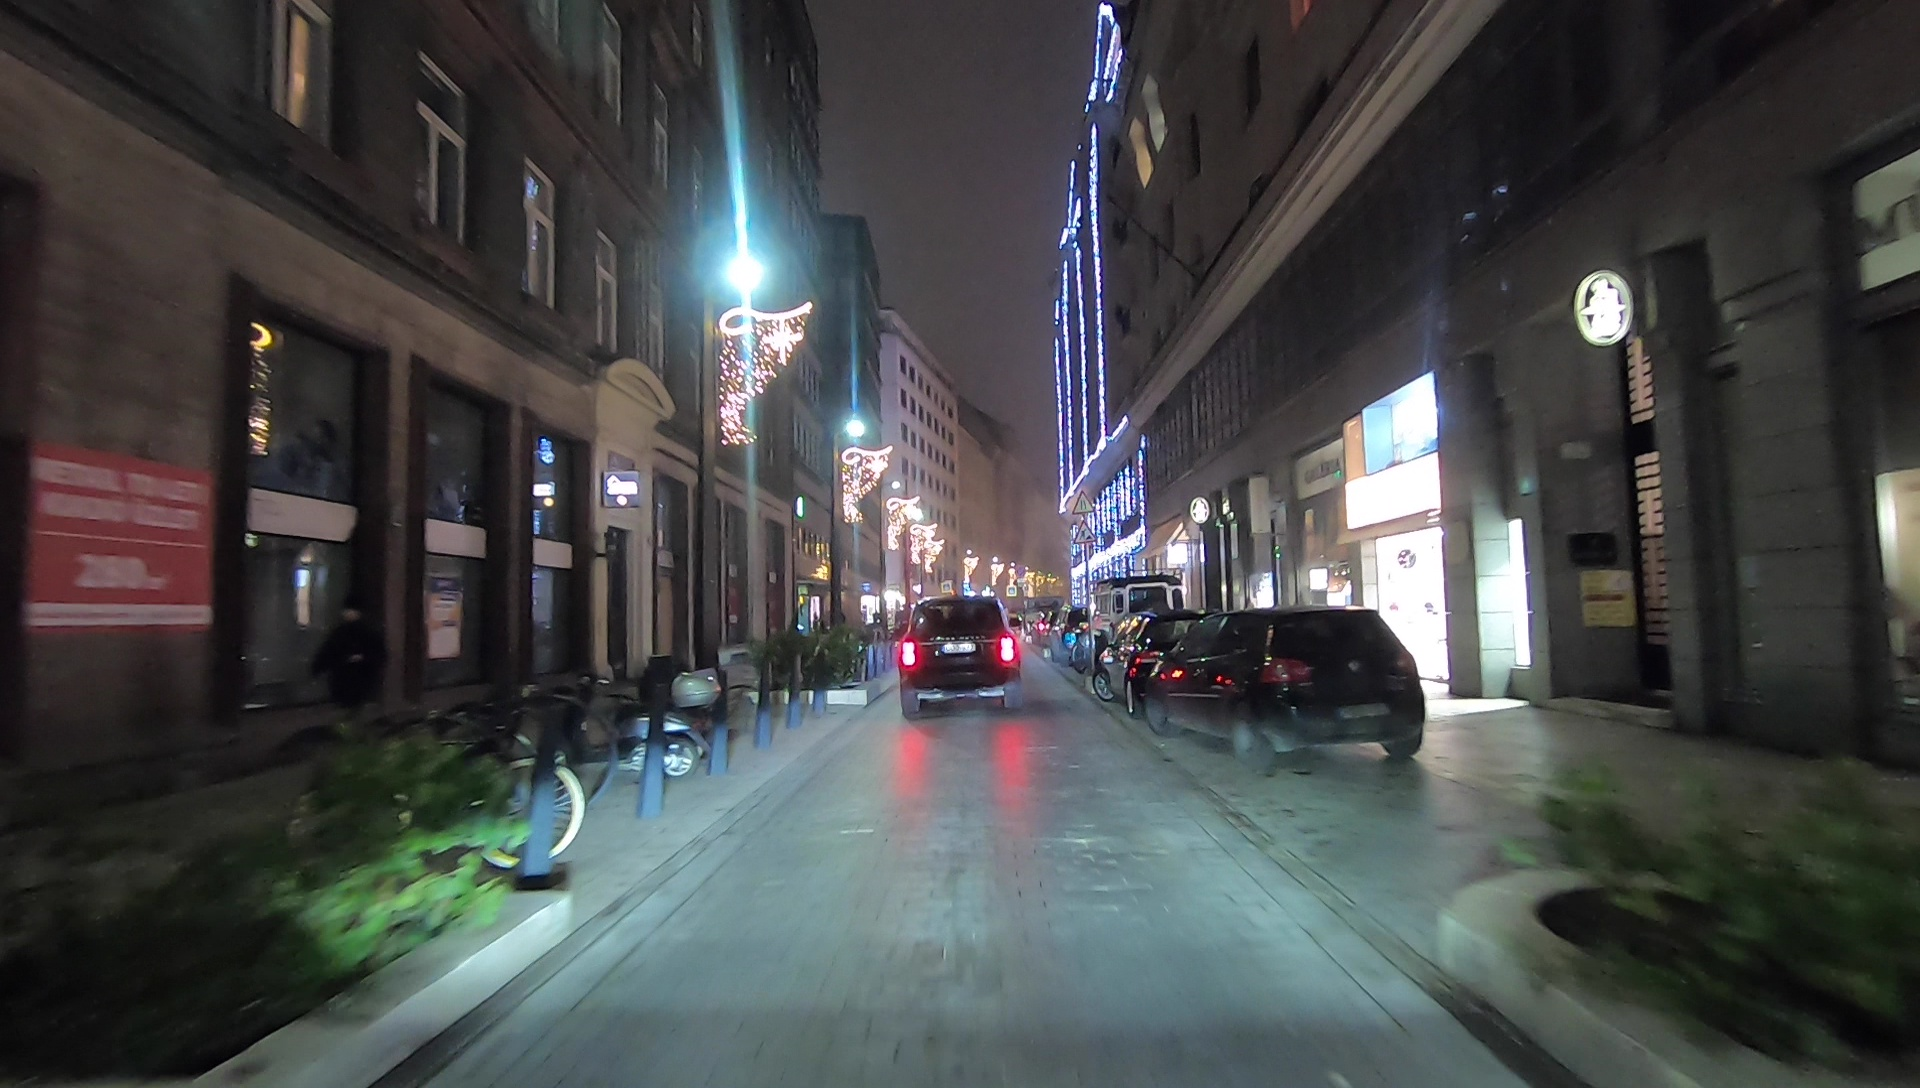person: (317, 606, 376, 747)
